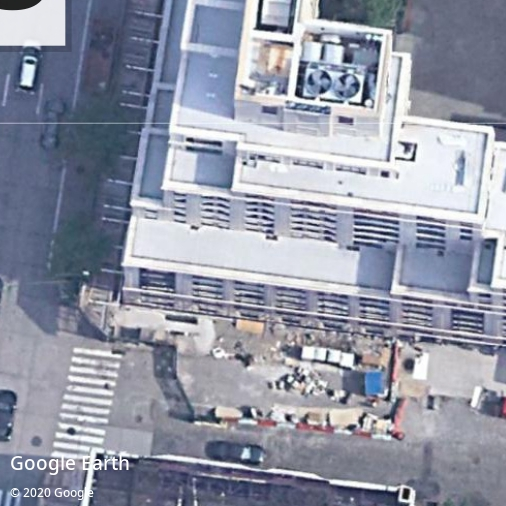Vent: (306, 69, 332, 95), (334, 73, 360, 99)
